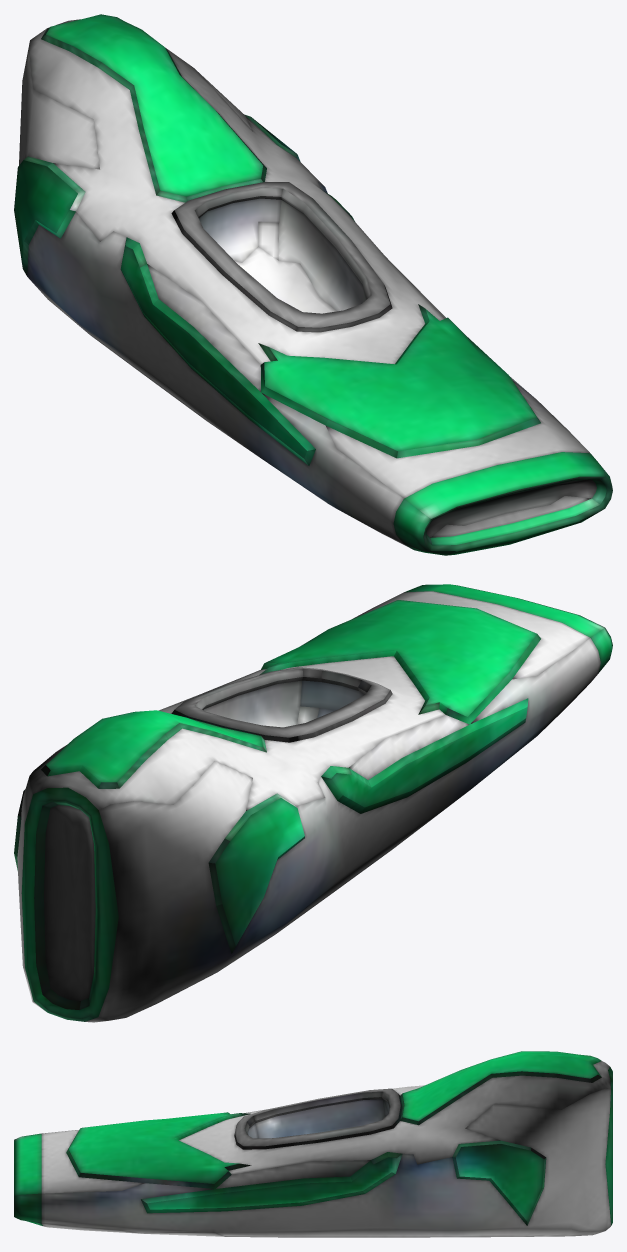
The model's file is body2.obj.
The picture shows the model from 3 angles, top to bottom: view 1: azimuth 30°, elevation 25°; view 2: azimuth 150°, elevation 25°; view 3: azimuth 270°, elevation 25°; orthographic projection. The views are drawn at different scales.
Visible parts, largest first — view 1: Object011; view 2: Object011; view 3: Object011.
Boxes of the visible parts, x1=… form: Object011: x1=14, y1=14, x2=612, y2=555; Object011: x1=14, y1=584, x2=612, y2=1022; Object011: x1=14, y1=1051, x2=612, y2=1237.
Bounding box in the file's own units: 12.37 × 12.22 × 39.1.
Materials: 1 (1 with a texture image).
